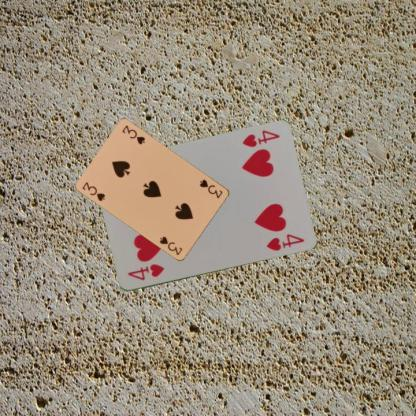3s: (80, 179, 107, 202), (197, 177, 224, 199)
4h: (239, 128, 281, 149), (125, 261, 165, 282)
